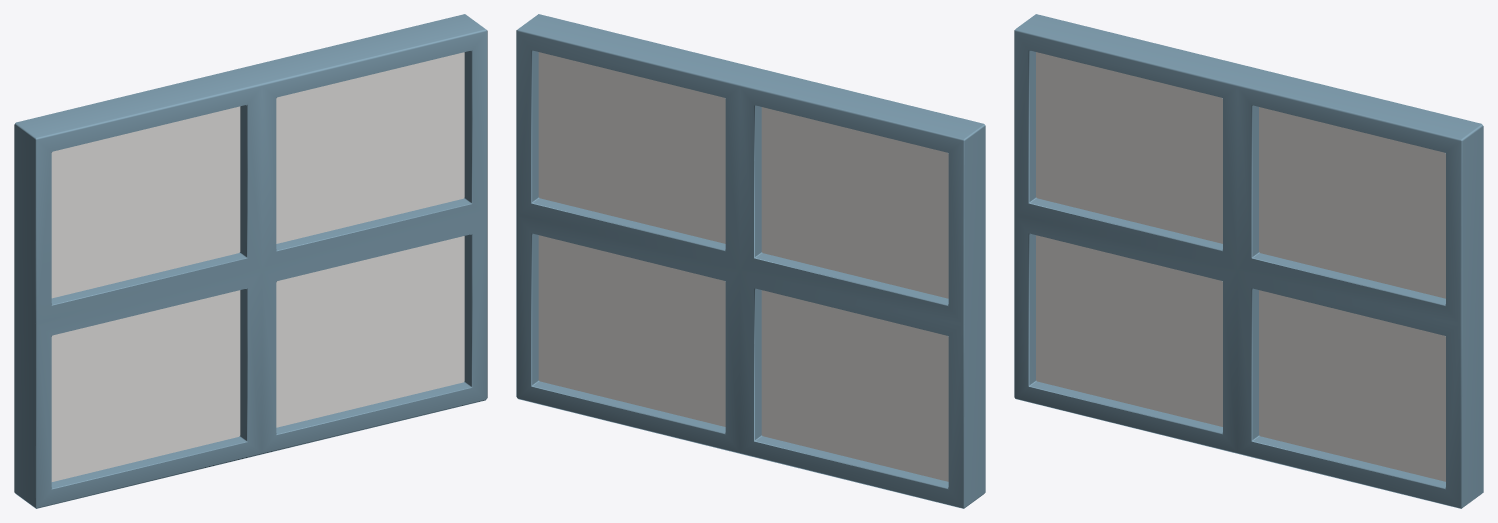
File: Window_7.glb
The picture shows the model from 3 angles, left to right: view 1: azimuth 30°, elevation 25°; view 2: azimuth 150°, elevation 25°; view 3: azimuth 330°, elevation 25°; orthographic projection.
Visible parts, largest first — view 1: Window_7; view 2: Window_7; view 3: Window_7.
Boxes of the visible parts, x1,y1,x2,y2 form: Window_7: (14, 14, 487, 508); Window_7: (516, 14, 985, 508); Window_7: (1014, 14, 1483, 508).
Bounding box in the file's own units: 4.58 × 3.6 × 0.4178.
2 materials, 2 textured.
